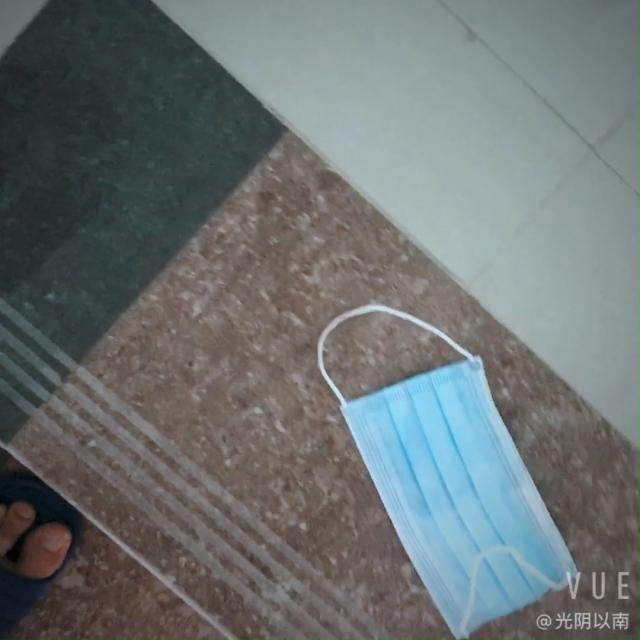face mask: (336, 346, 566, 640)
